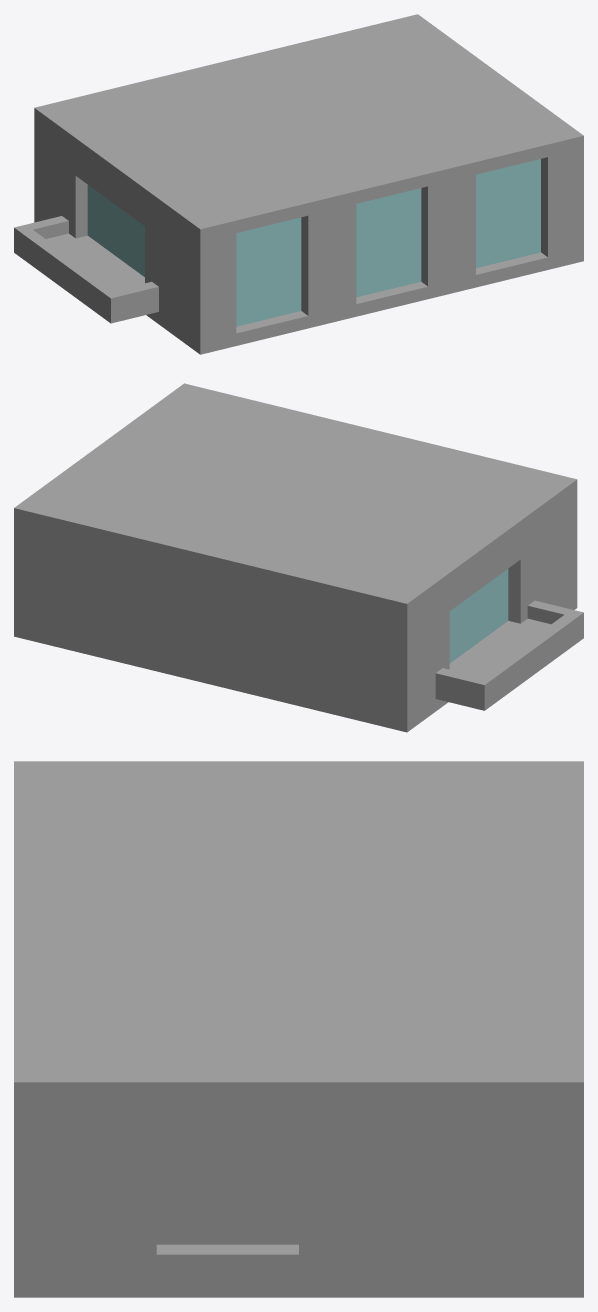
Rendered from building_f3.obj.
3 views of the same model, one above another, from view 1: azimuth 30°, elevation 25°; view 2: azimuth 150°, elevation 25°; view 3: azimuth 270°, elevation 25° (orthographic). The views are drawn at different scales.
Visible parts, largest first — view 1: building_f3; view 2: building_f3; view 3: building_f3.
Boxes of the visible parts, x1,y1,x2,y2 form: building_f3: [14, 14, 583, 354]; building_f3: [14, 383, 583, 732]; building_f3: [14, 761, 583, 1297].
Size of the model in its own units: 3.6 by 1 by 2.4.
1 material, 1 textured.
